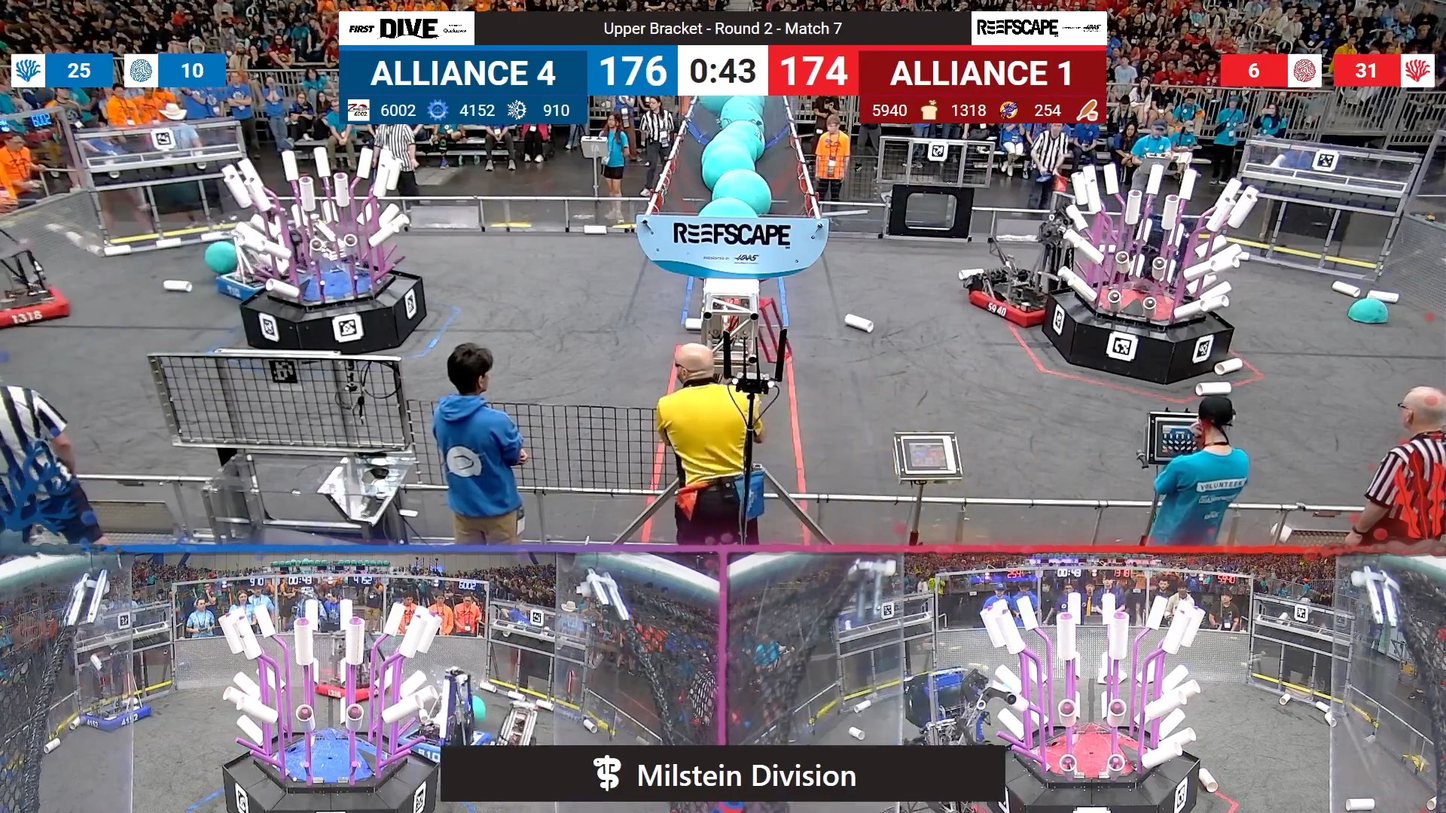bumpers: (964, 276, 1067, 332), (0, 277, 75, 334), (70, 701, 155, 737), (207, 267, 277, 307)
